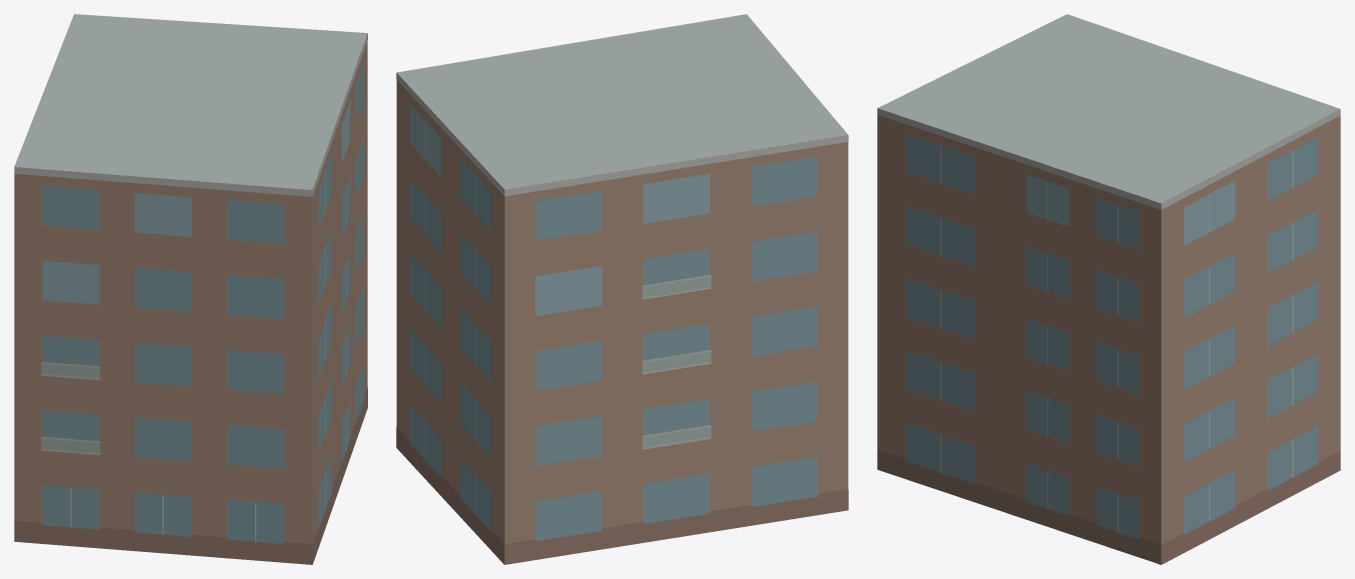
File: survey-upis-32922969.glb
3 views of the same model, side by side, from view 1: azimuth 30°, elevation 25°; view 2: azimuth 150°, elevation 25°; view 3: azimuth 270°, elevation 25° (orthographic). The views are drawn at different scales.
Parts seen in each view (by area): view 1: survey-upis-32922969.tmp; view 2: survey-upis-32922969.tmp; view 3: survey-upis-32922969.tmp.
Part boxes in pixels (left/top/right/bottom): survey-upis-32922969.tmp: left=14, top=14, right=367, bottom=564; survey-upis-32922969.tmp: left=396, top=14, right=848, bottom=564; survey-upis-32922969.tmp: left=877, top=14, right=1340, bottom=564.
Bounding box in the file's own units: 15.07 × 13.4 × 15.57.
